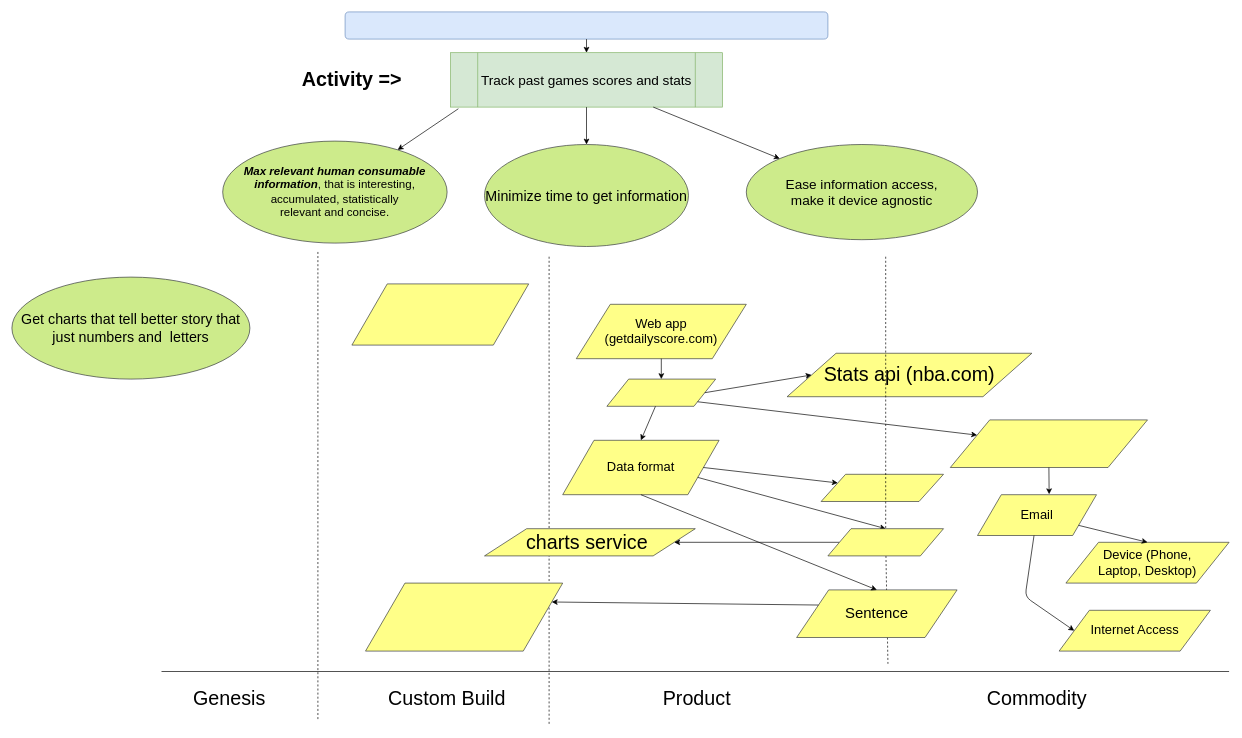
Some shapes in this 1242 by 738 pixel diagram are drawn without their labels. Here are the shapes that lost their labels. From the top down, the box of each, then its label:
(344, 11, 828, 39): Sports Fan
(351, 283, 529, 345): Interesting statistics facts service
(606, 378, 716, 406): Data
(950, 419, 1148, 468): Data Distribution
(820, 474, 944, 502): Number
(827, 528, 944, 556): Chart
(365, 582, 563, 651): Service that extracts human consumable data from numbers
